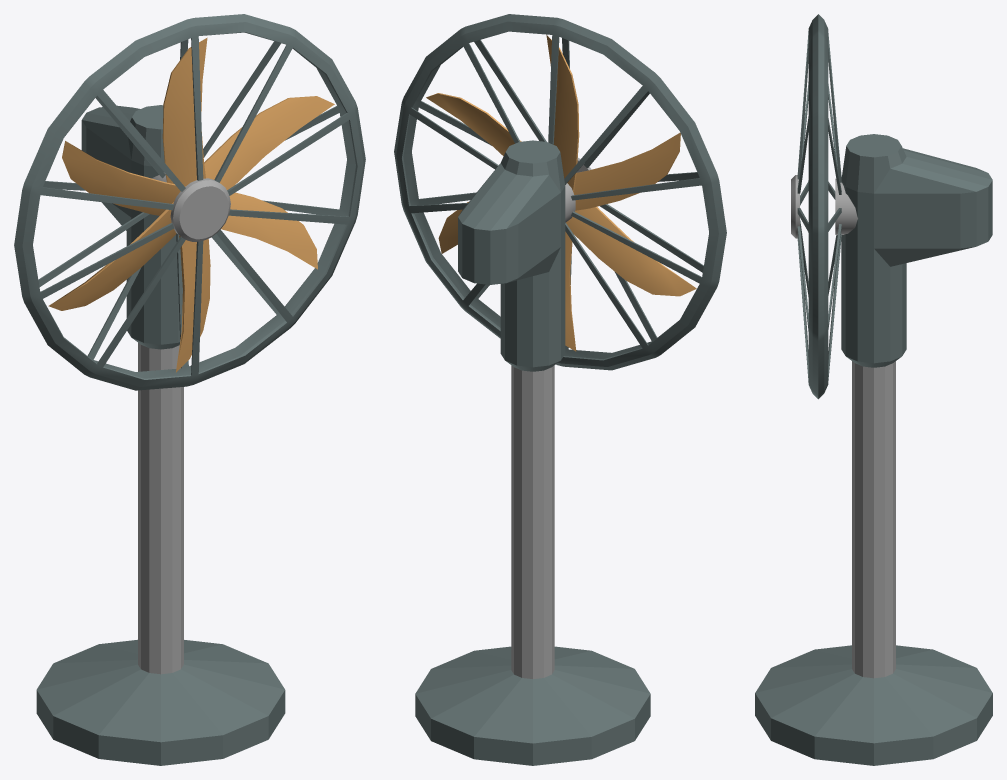
The model's file is fan.fbx.
3 renders of one model, left to right at view 1: azimuth 30°, elevation 25°; view 2: azimuth 150°, elevation 25°; view 3: azimuth 270°, elevation 25°, orthographic. The views are drawn at different scales.
Visible parts, largest first — view 1: fan; view 2: fan; view 3: fan.
Boxes of the visible parts, left/top/right/bottom form: fan: left=14, top=14, right=365, bottom=765; fan: left=394, top=14, right=726, bottom=765; fan: left=755, top=14, right=992, bottom=765.
Bounding box in the file's own units: 196 × 381 × 120.
